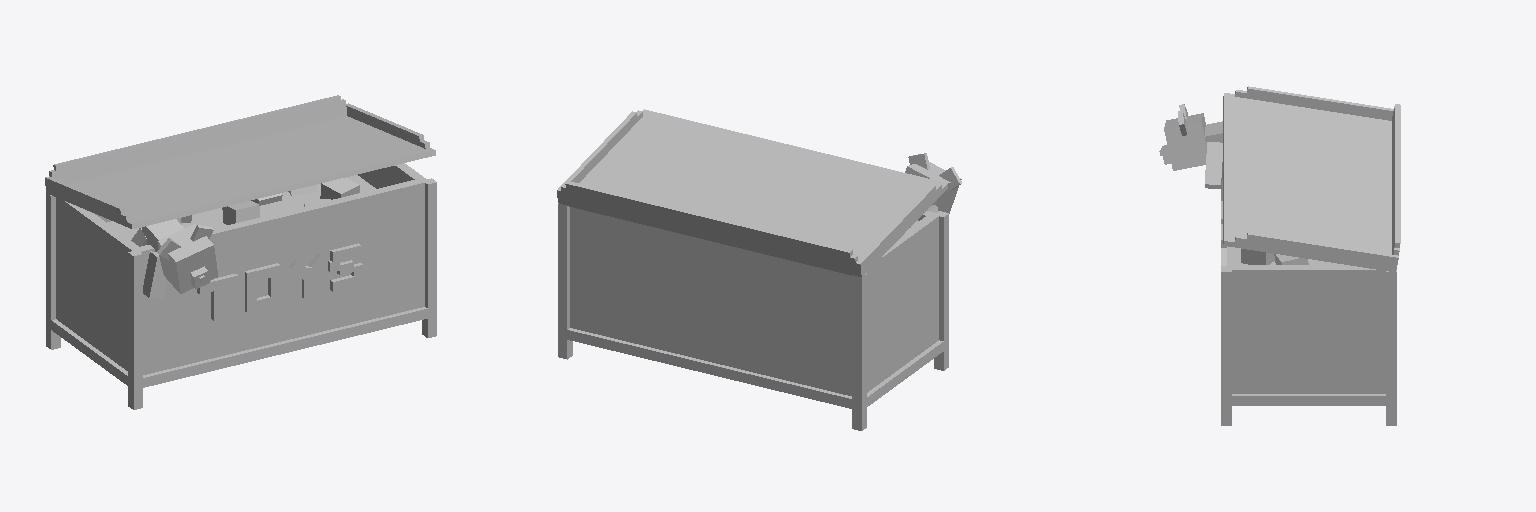
Rendered from 1219_toybox_girl.obj.
The picture shows the model from 3 angles: view 1: azimuth 30°, elevation 25°; view 2: azimuth 150°, elevation 25°; view 3: azimuth 270°, elevation 25°; orthographic projection.
Visible parts, largest first — view 1: wall4, Lid, wall2, base, Rail5, Teddy1, leg1, Rail7, leg2, layer, Rail6, wall1 (+7 smaller); view 2: wall3, Lid, wall2, base, Rail5, Rail7, leg4, leg3, leg1, Rail6, Rail4, Teddy1 (+2 smaller); view 3: Lid, wall1, base, Teddy1, leg2, leg3, Rail3, Rail4, Rail7, Rail2, Rail, Arm2.
Boxes of the visible parts, <box> form: wall4: <box>140,180,419,374</box>; Lid: <box>46,116,435,228</box>; wall2: <box>56,197,144,374</box>; base: <box>46,307,436,389</box>; Rail5: <box>52,106,346,183</box>; Teddy1: <box>157,224,217,293</box>; leg1: <box>128,250,142,409</box>; Rail7: <box>53,95,340,170</box>; leg2: <box>422,178,436,337</box>; layer: <box>107,175,375,239</box>; Rail6: <box>49,99,345,176</box>; wall1: <box>358,163,428,307</box>; wall3: <box>575,208,849,395</box>; Lid: <box>558,109,947,276</box>; wall2: <box>850,212,940,395</box>; base: <box>558,328,943,411</box>; Rail5: <box>562,192,856,271</box>; Rail7: <box>565,181,852,257</box>; leg4: <box>852,273,866,430</box>; leg3: <box>558,203,572,359</box>; leg1: <box>934,211,948,370</box>; Rail6: <box>561,184,857,262</box>; Rail4: <box>856,184,935,268</box>; Teddy1: <box>905,162,961,213</box>; Lid: <box>1223,93,1396,271</box>; wall1: <box>1227,265,1385,393</box>; base: <box>1221,394,1396,405</box>; Teddy1: <box>1164,113,1206,170</box>; leg2: <box>1221,267,1231,425</box>; leg3: <box>1386,270,1396,425</box>; Rail3: <box>1247,232,1398,262</box>; Rail4: <box>1247,86,1393,115</box>; Rail7: <box>1394,104,1400,247</box>; Rail2: <box>1235,235,1397,267</box>; Rail: <box>1235,90,1391,120</box>; Arm2: <box>1205,142,1222,188</box>.
Bounding box in the file's own units: 4 × 2.41 × 2.75.